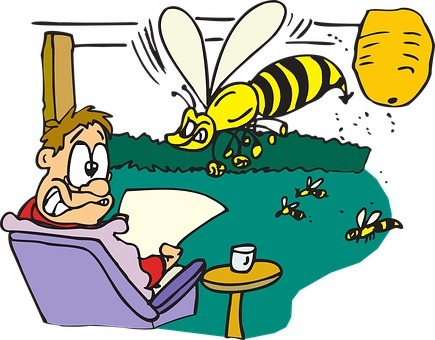chair: (1, 206, 209, 330)
diningtable: (204, 252, 286, 337)
person: (17, 97, 181, 282)
